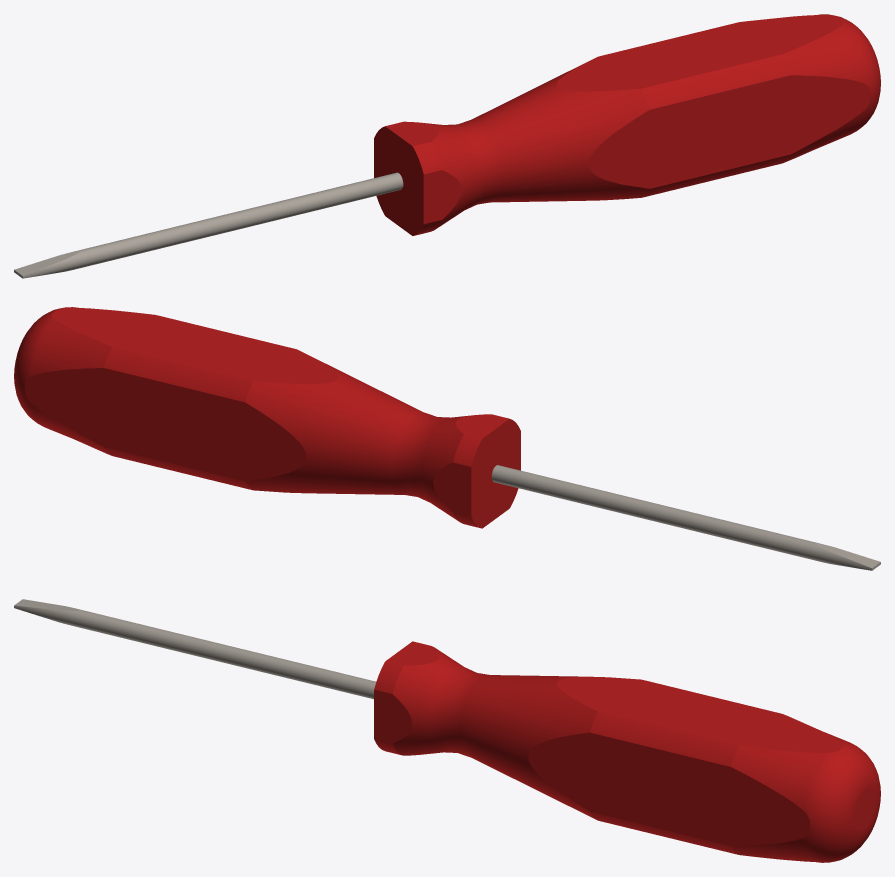
The picture shows the model from 3 angles, top to bottom: view 1: azimuth 30°, elevation 25°; view 2: azimuth 150°, elevation 25°; view 3: azimuth 330°, elevation 25°; orthographic projection.
Visible parts, largest first — view 1: Screwdriver_handle.005, Screwdriver_tool.005; view 2: Screwdriver_handle.005, Screwdriver_tool.005; view 3: Screwdriver_handle.005, Screwdriver_tool.005.
Boxes of the visible parts, bbox=[...] form: Screwdriver_handle.005: bbox=[374, 14, 880, 235]; Screwdriver_tool.005: bbox=[14, 172, 403, 278]; Screwdriver_handle.005: bbox=[14, 307, 520, 528]; Screwdriver_tool.005: bbox=[491, 465, 880, 570]; Screwdriver_handle.005: bbox=[374, 641, 880, 862]; Screwdriver_tool.005: bbox=[14, 599, 376, 699].
Size of the model in its own units: 1.14 by 0.1402 by 0.1405.
